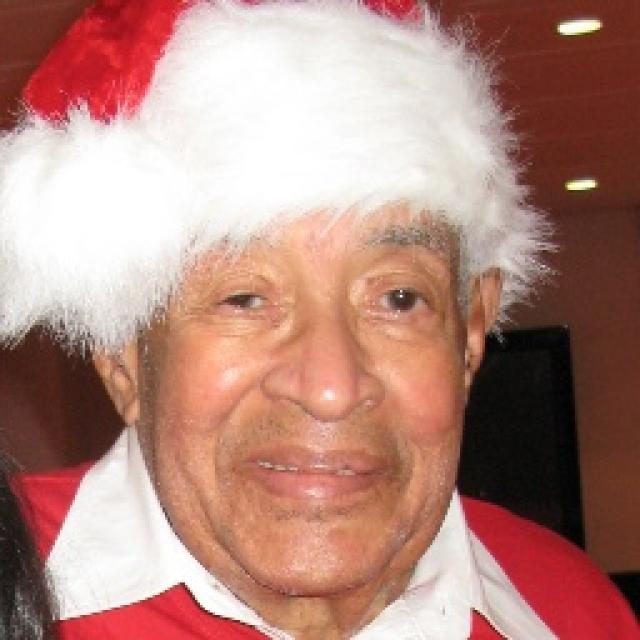earlobe: (465, 265, 503, 395)
